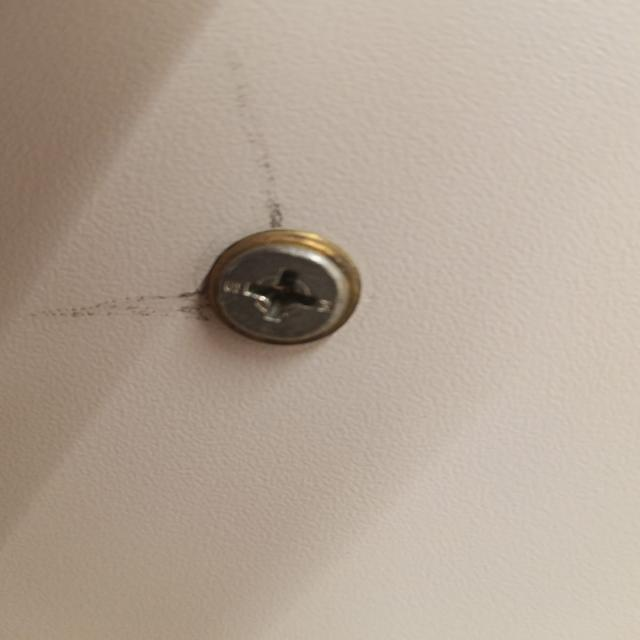phillips: (217, 243, 350, 344)
